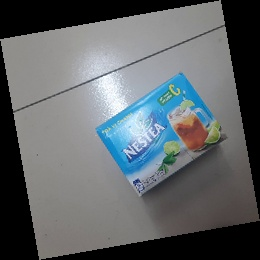Nestea: (94, 71, 227, 197)
